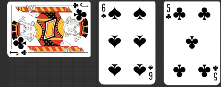4C: (165, 3, 173, 21)
JC: (10, 49, 29, 57), (72, 2, 89, 10)
